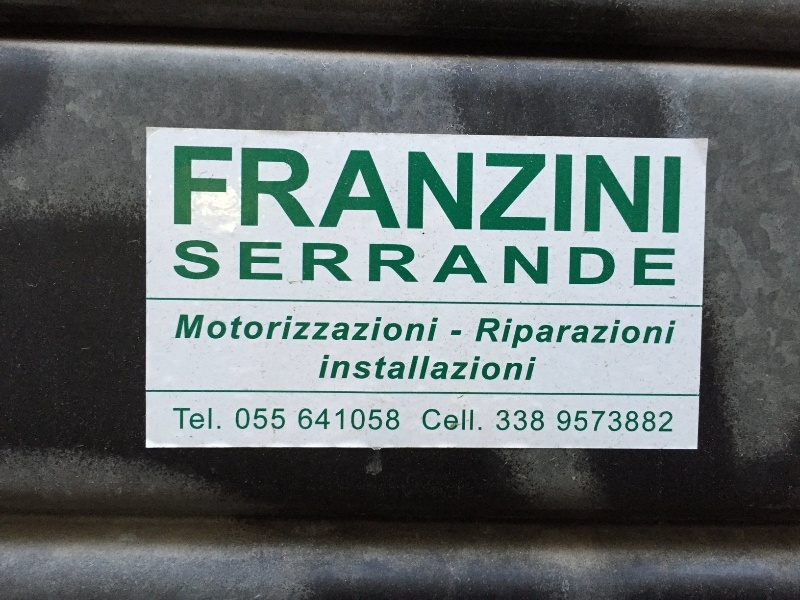text: (177, 142, 192, 238), (193, 142, 208, 238), (209, 142, 224, 238), (225, 142, 240, 238), (241, 142, 256, 238), (257, 142, 272, 238), (273, 142, 288, 238), (289, 142, 304, 238), (305, 142, 320, 238), (321, 142, 336, 238), (337, 142, 352, 238), (353, 142, 368, 238), (369, 142, 384, 238), (385, 142, 400, 238), (401, 142, 416, 238), (417, 142, 432, 238), (433, 142, 448, 238), (449, 142, 464, 238), (465, 142, 480, 238), (481, 142, 496, 238), (497, 142, 512, 238), (513, 142, 528, 238), (529, 142, 544, 238), (545, 142, 560, 238), (561, 142, 576, 238), (577, 142, 592, 238), (593, 142, 608, 238), (609, 142, 624, 238), (625, 142, 640, 238), (641, 142, 656, 238), (657, 142, 672, 238), (673, 142, 684, 238), (337, 242, 353, 282), (177, 240, 192, 282), (193, 240, 208, 282), (241, 240, 256, 281), (257, 240, 272, 281), (641, 247, 656, 288), (657, 247, 672, 288), (305, 242, 320, 282), (321, 242, 336, 282), (513, 245, 528, 285), (529, 245, 544, 285), (369, 244, 384, 283), (385, 244, 400, 283), (401, 244, 416, 283), (465, 245, 480, 284), (577, 247, 592, 286), (593, 247, 608, 286), (209, 240, 221, 282), (481, 318, 496, 351), (497, 318, 512, 351), (513, 318, 528, 351), (529, 318, 544, 351), (545, 318, 560, 351), (561, 318, 576, 351), (577, 318, 592, 351), (593, 318, 608, 351), (609, 318, 624, 351), (625, 318, 640, 351), (641, 318, 656, 351), (657, 318, 672, 351), (193, 314, 208, 343), (209, 314, 224, 343), (225, 314, 240, 343), (241, 314, 256, 343), (257, 314, 272, 343), (273, 314, 288, 343), (289, 314, 304, 343), (305, 314, 320, 343), (321, 314, 336, 343), (337, 314, 352, 343), (353, 314, 368, 343), (369, 314, 384, 343), (385, 314, 400, 343), (401, 314, 416, 343), (417, 314, 432, 343), (453, 245, 464, 284), (273, 240, 283, 281), (337, 354, 352, 381), (353, 354, 368, 381), (369, 354, 384, 381), (385, 354, 400, 381), (401, 354, 416, 381), (417, 354, 432, 381), (433, 354, 448, 381), (449, 354, 464, 381), (465, 354, 480, 381), (481, 354, 496, 381), (497, 354, 512, 381), (513, 354, 528, 381), (657, 409, 673, 433), (177, 407, 192, 431), (193, 407, 208, 431), (241, 407, 256, 431), (257, 407, 272, 431), (305, 408, 320, 432), (321, 408, 336, 432), (337, 408, 352, 432), (353, 408, 368, 432), (369, 408, 384, 432), (385, 408, 400, 432), (561, 409, 576, 433), (577, 409, 592, 433), (593, 409, 608, 433), (609, 409, 624, 433), (625, 409, 640, 433), (641, 409, 656, 433), (529, 410, 545, 432), (180, 314, 192, 343), (433, 409, 448, 431), (449, 409, 464, 431), (465, 409, 480, 431), (497, 410, 512, 432), (513, 410, 528, 432), (324, 354, 336, 381), (504, 245, 512, 285), (481, 245, 489, 284), (209, 407, 222, 431), (273, 407, 286, 431), (173, 142, 176, 238), (633, 247, 640, 288), (569, 247, 576, 286), (609, 247, 616, 286), (433, 314, 441, 343), (529, 354, 537, 381), (423, 409, 432, 431), (545, 245, 549, 285), (673, 318, 677, 351), (673, 247, 676, 288), (299, 408, 304, 432), (451, 329, 464, 337), (236, 407, 240, 431), (174, 240, 176, 282), (302, 242, 304, 282), (417, 244, 419, 283), (173, 407, 176, 431), (557, 409, 560, 433), (239, 240, 240, 281), (481, 409, 482, 431)
